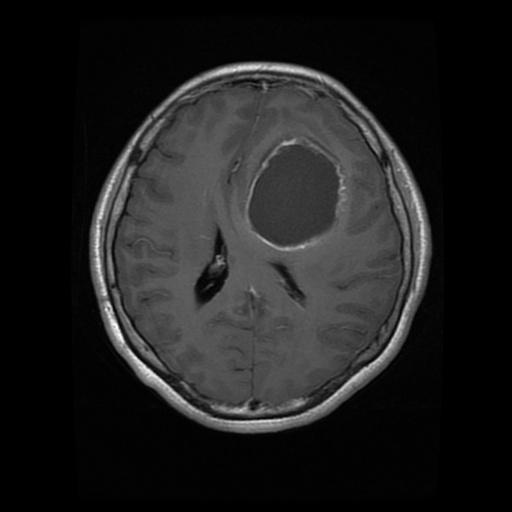glioma: (244, 136, 346, 251)
